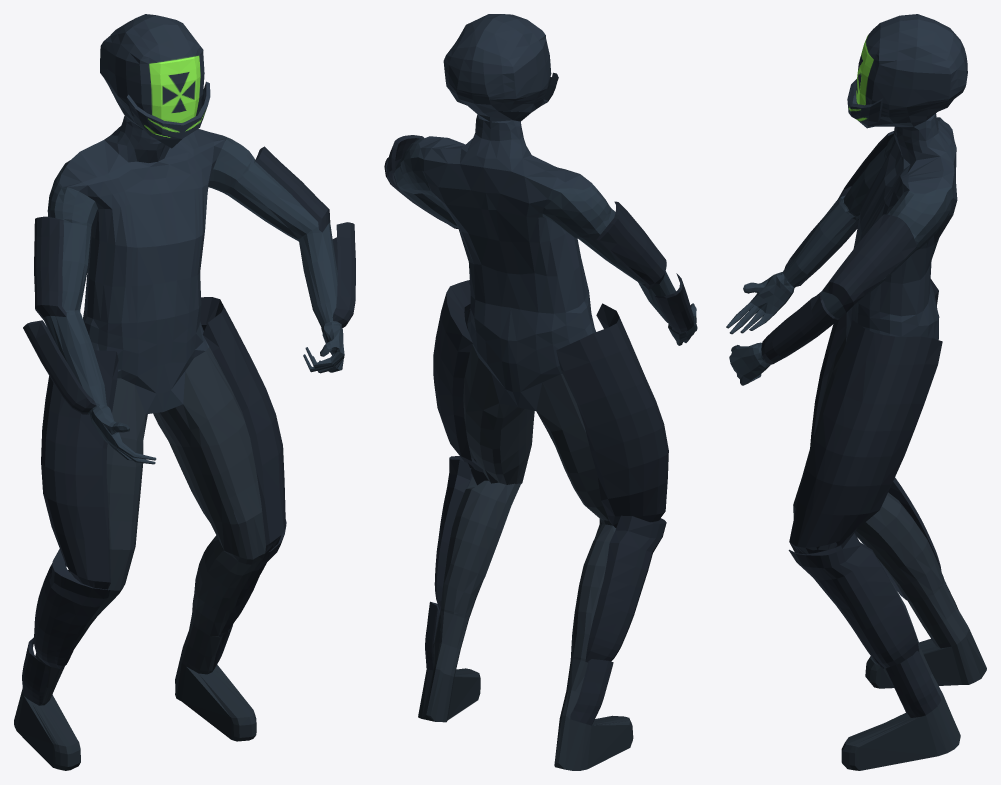
Rendered from Bastion_Hit_Recover_000008.obj.
The picture shows the model from 3 angles, left to right: view 1: azimuth 30°, elevation 25°; view 2: azimuth 150°, elevation 25°; view 3: azimuth 270°, elevation 25°; orthographic projection.
Visible parts, largest first — view 1: Cube.002; view 2: Cube.002; view 3: Cube.002.
Boxes of the visible parts, box(x1,y1,x2,y2) form: Cube.002: box(14, 14, 355, 770); Cube.002: box(384, 14, 697, 770); Cube.002: box(726, 14, 986, 770).
Bounding box in the file's own units: 1.69 × 3.67 × 1.21.
